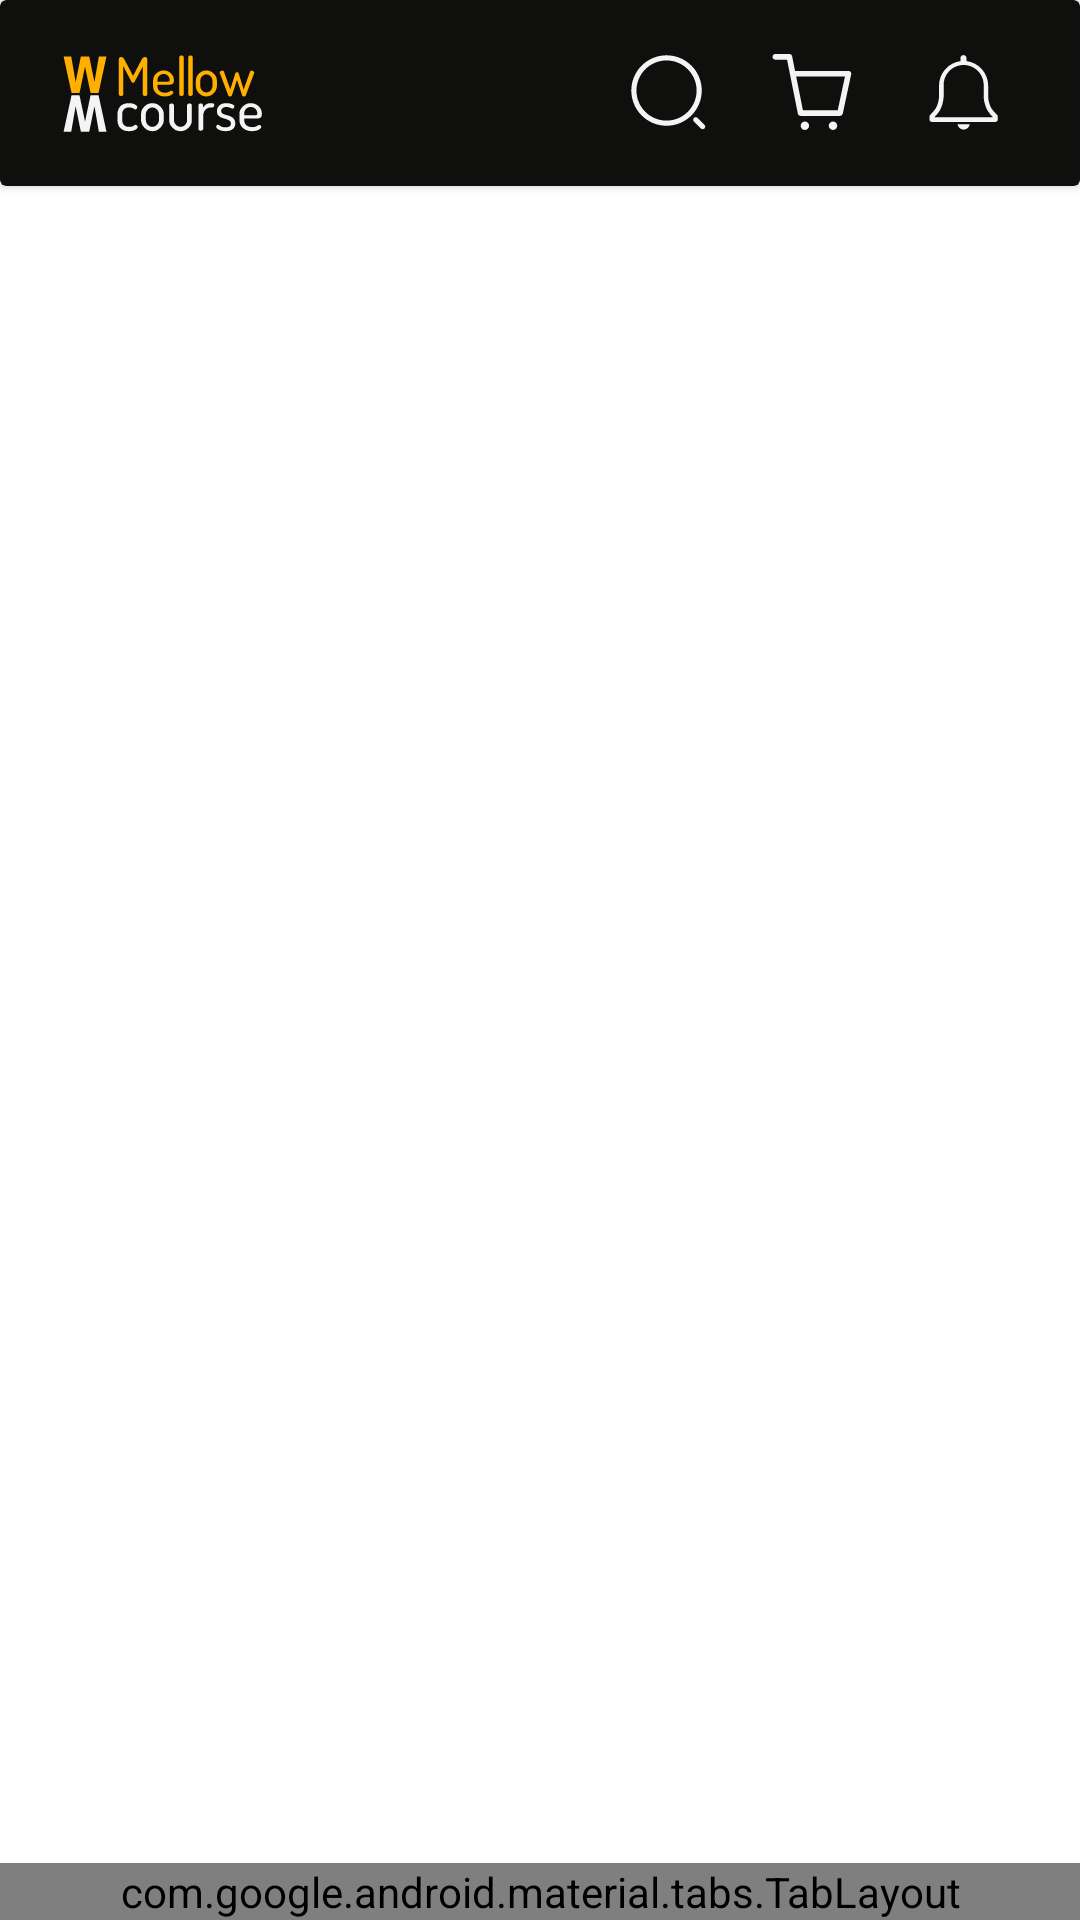

Screen size 1080x1920. Icon name, then its center in pixels as (x,y):
clarity notification line: (963,92)
search: (668,92)
